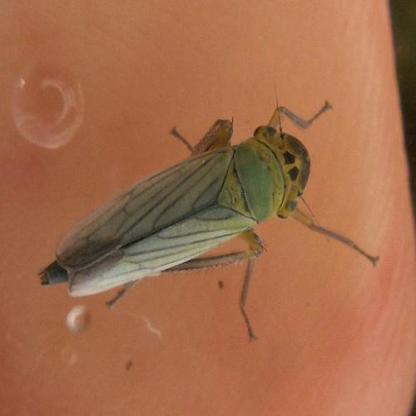Green-Leafhopper: (33, 97, 383, 342)
